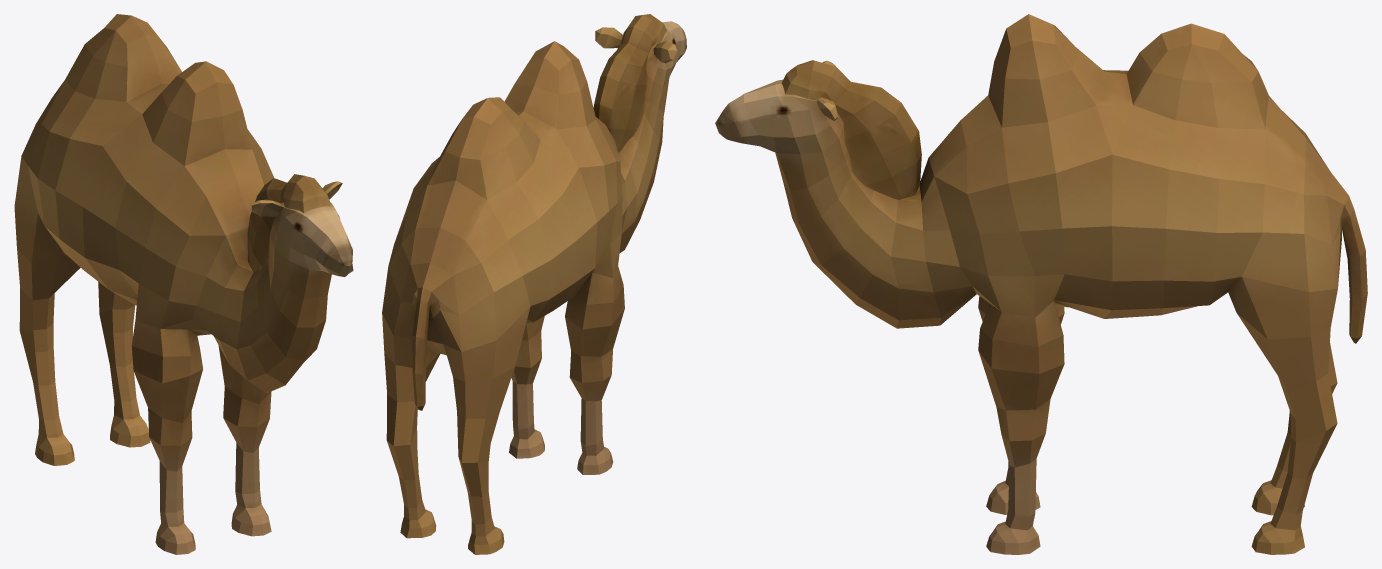
File: animals-camel-030.glb
3 views of the same model, side by side, from view 1: azimuth 30°, elevation 25°; view 2: azimuth 150°, elevation 25°; view 3: azimuth 270°, elevation 25° (orthographic). The views are drawn at different scales.
Parts seen in each view (by area): view 1: BactrianCamel_Mesh; view 2: BactrianCamel_Mesh; view 3: BactrianCamel_Mesh.
Part boxes in pixels (<box>): BactrianCamel_Mesh: <box>14,14,353,554</box>; BactrianCamel_Mesh: <box>382,14,686,554</box>; BactrianCamel_Mesh: <box>715,14,1367,554</box>.
Bounding box in the file's own units: 3.83 × 9.73 × 11.22.
Materials: 1 (1 with a texture image).
